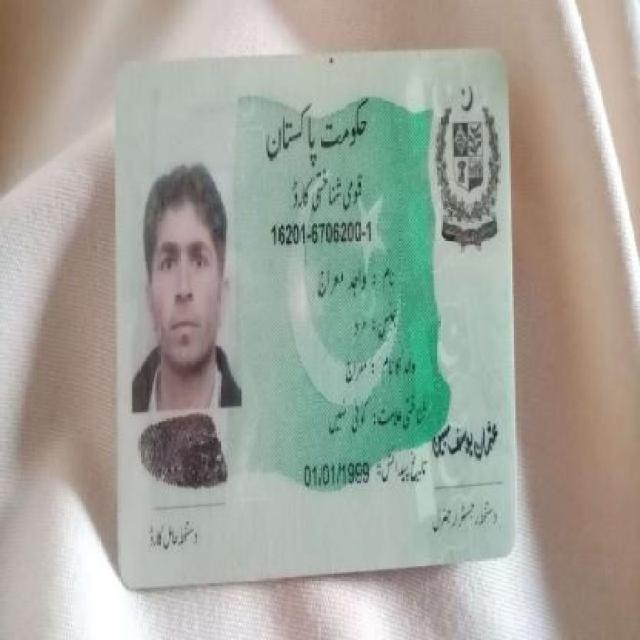Front: (99, 44, 522, 594)
